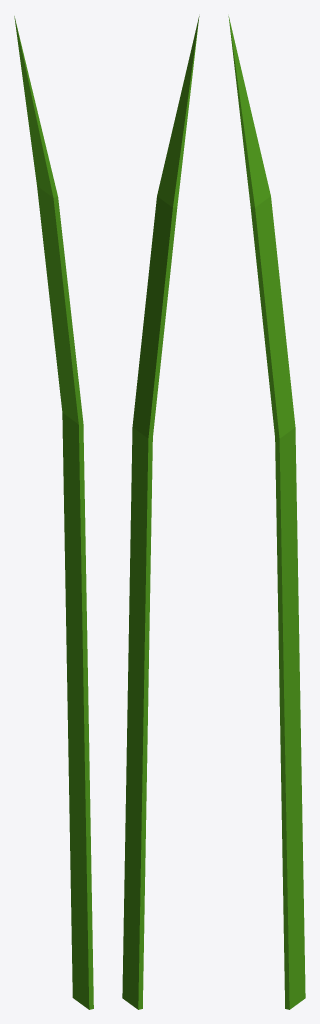
File: GrassSingle_a_05.fbx
3 views of the same model, side by side, from view 1: azimuth 30°, elevation 25°; view 2: azimuth 210°, elevation 25°; view 3: azimuth 330°, elevation 25° (orthographic). The views are drawn at different scales.
Parts seen in each view (by area): view 1: GrassSingle_a_05_LOD0; view 2: GrassSingle_a_05_LOD0; view 3: GrassSingle_a_05_LOD0.
Part boxes in pixels (x1=…): GrassSingle_a_05_LOD0: x1=14, y1=16, x2=93, y2=1009; GrassSingle_a_05_LOD0: x1=122, y1=16, x2=199, y2=1009; GrassSingle_a_05_LOD0: x1=228, y1=16, x2=305, y2=1009.
Size of what is drawn, in the model's own units: 2.27 by 30.54 by 0.9064.
